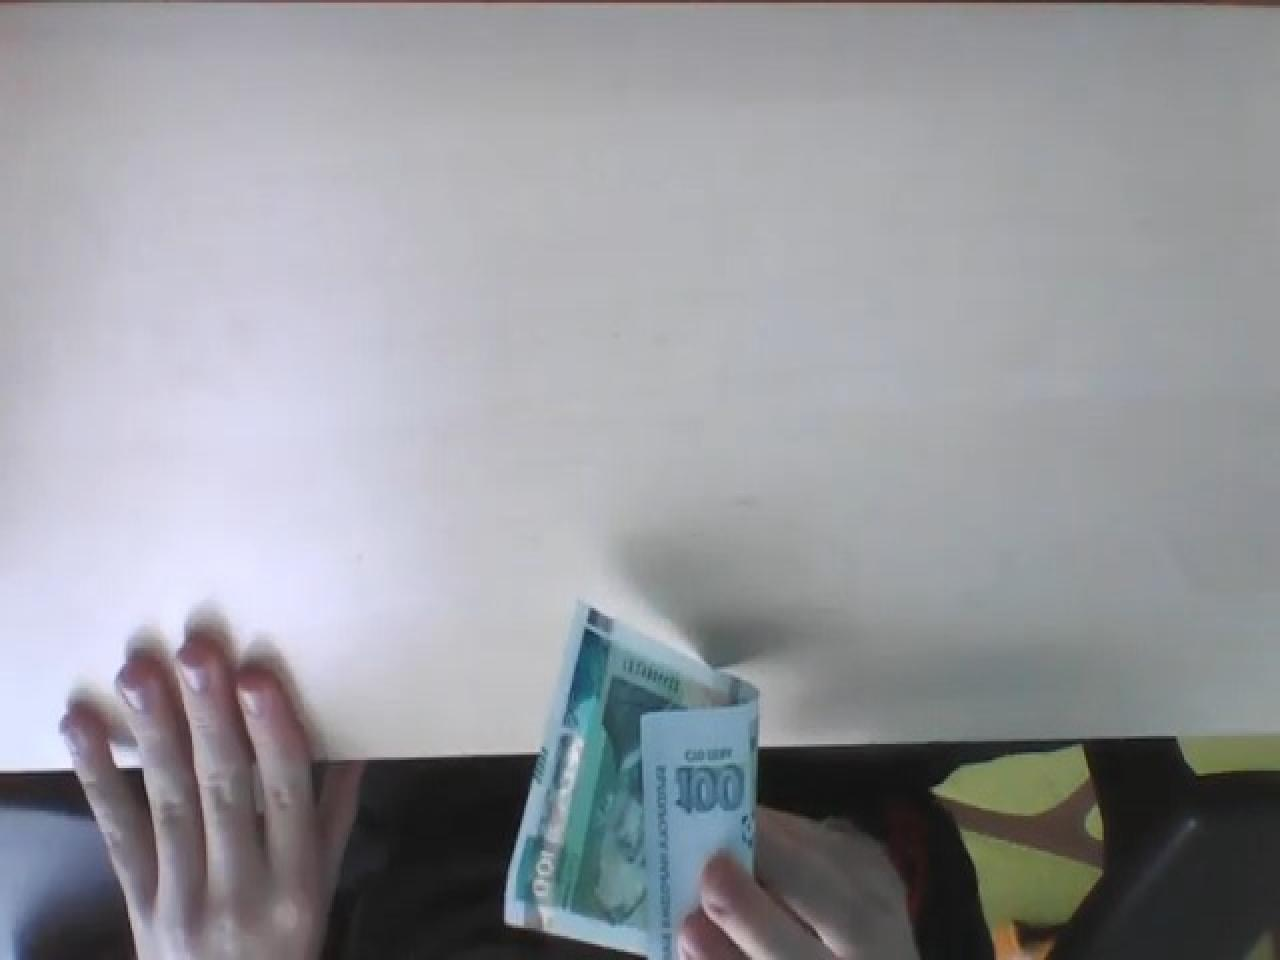100leva: (502, 603, 760, 960), (672, 762, 746, 818)
